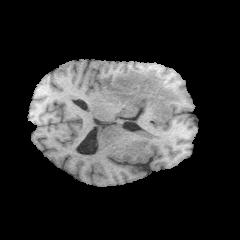glioma: (112, 69, 181, 121)
